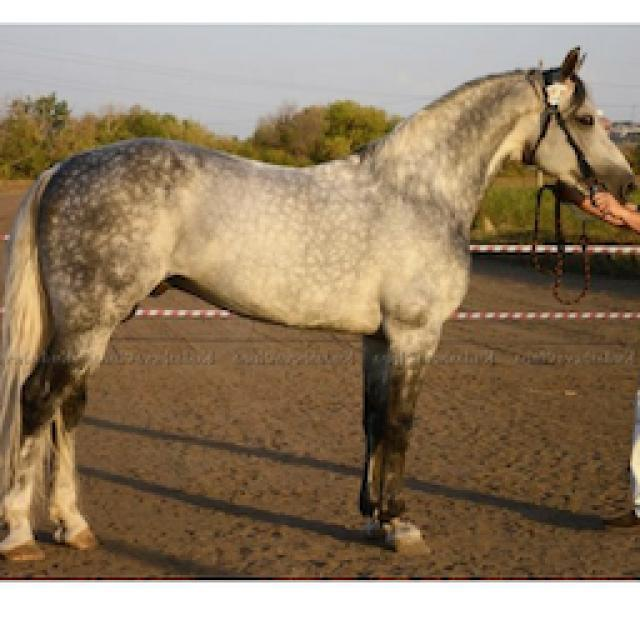Horse: (2, 42, 640, 566)
